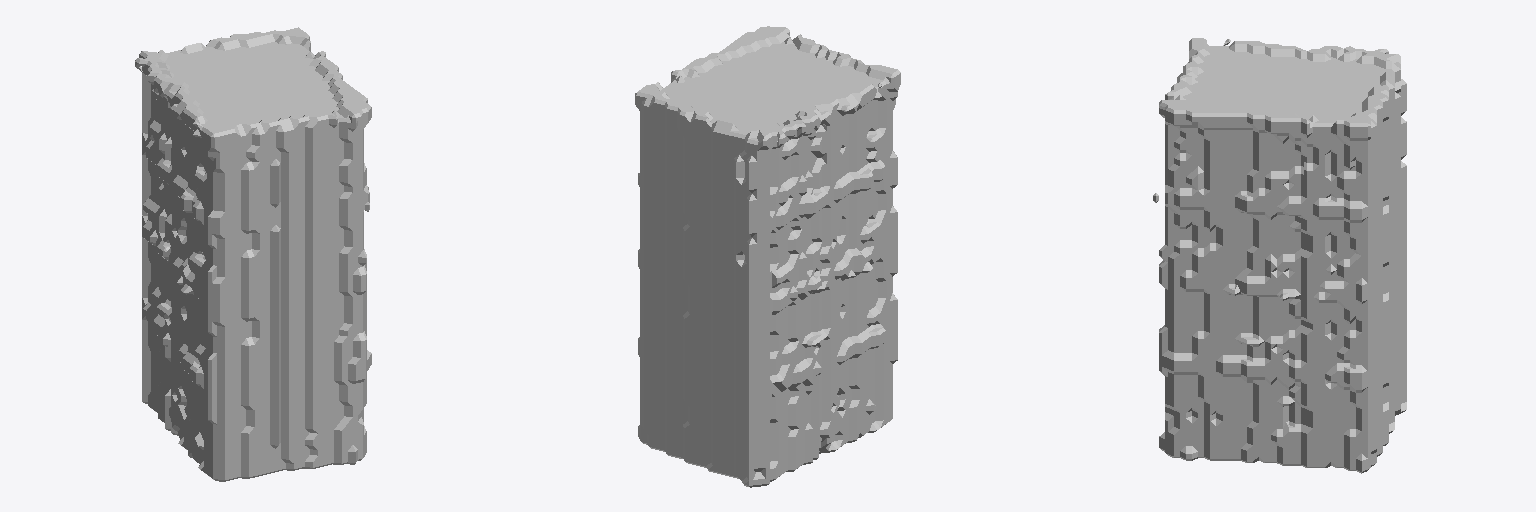
The model's file is gen10_colored.obj.
3 views of the same model, side by side, from view 1: azimuth 30°, elevation 25°; view 2: azimuth 150°, elevation 25°; view 3: azimuth 270°, elevation 25° (orthographic).
Visible parts, largest first — view 1: gen10.obj; view 2: gen10.obj; view 3: gen10.obj.
Boxes of the visible parts, box(x1,y1,x2,y2) form: gen10.obj: box(135, 27, 371, 481); gen10.obj: box(635, 26, 900, 487); gen10.obj: box(1153, 38, 1406, 473).
Bounding box in the file's own units: 34 × 64 × 42.